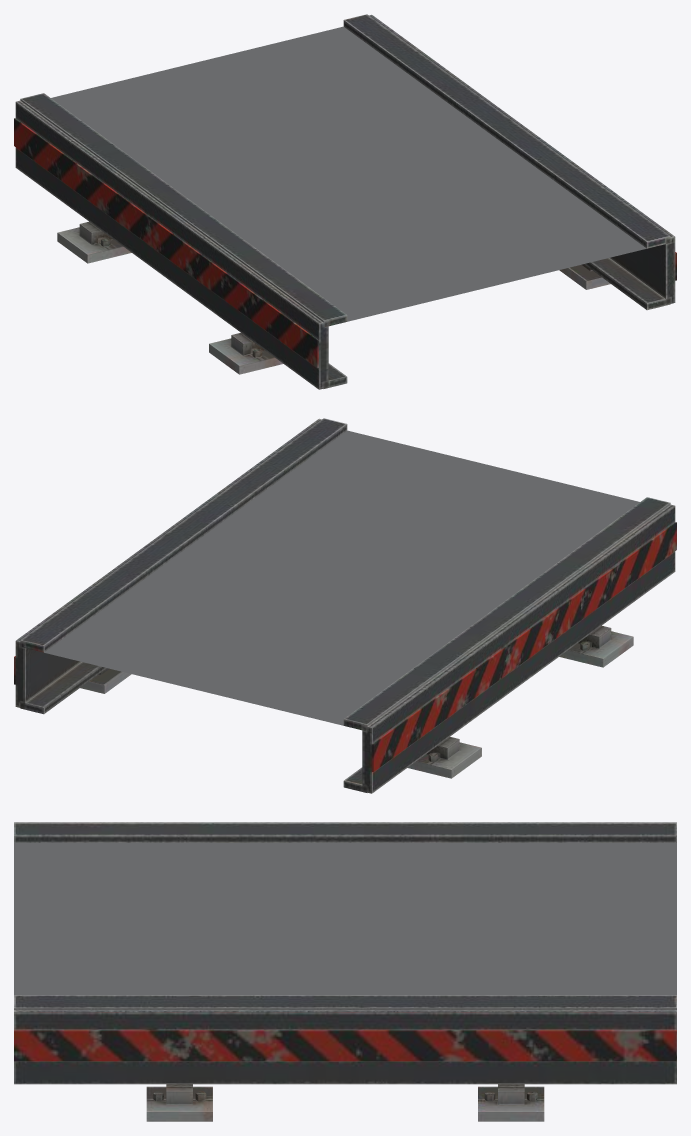
File: esteira_reta_rapida.glb
3 renders of one model, top to bottom at view 1: azimuth 30°, elevation 25°; view 2: azimuth 150°, elevation 25°; view 3: azimuth 270°, elevation 25°, orthographic. The views are drawn at different scales.
Visible parts, largest first — view 1: esteira_reta_rapida_corpo; view 2: esteira_reta_rapida_corpo; view 3: esteira_reta_rapida_corpo.
Boxes of the visible parts, x1,y1,x2,y2 form: esteira_reta_rapida_corpo: (14,14,676,389); esteira_reta_rapida_corpo: (14,418,676,793); esteira_reta_rapida_corpo: (14,822,676,1121).
Size of the model in its own units: 0.75 by 0.168 by 1.
Materials: 2 (1 with a texture image).
